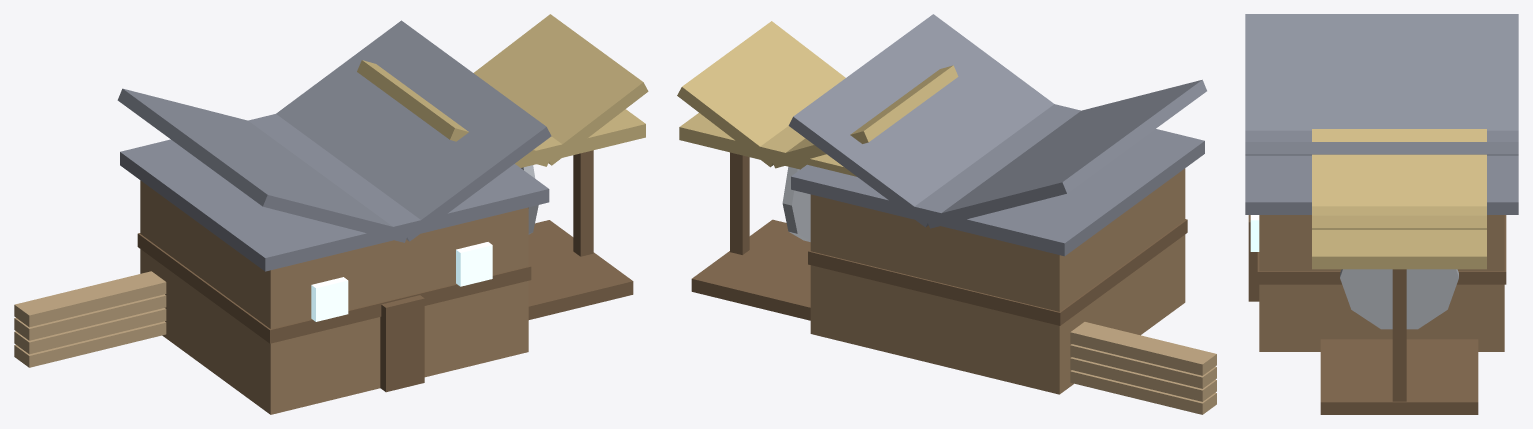
Rendered from sawmill.glb.
The picture shows the model from 3 angles, left to right: view 1: azimuth 30°, elevation 25°; view 2: azimuth 150°, elevation 25°; view 3: azimuth 270°, elevation 25°; orthographic projection. The views are drawn at different scales.
Parts seen in each view (by area): view 1: SawmillWall; view 2: SawmillWall; view 3: SawmillWall.
Part boxes in pixels (bbox=[...]): SawmillWall: bbox=[14, 14, 648, 414]; SawmillWall: bbox=[677, 14, 1216, 414]; SawmillWall: bbox=[1245, 14, 1518, 414].
Bounding box in the file's own units: 3.37 × 1.35 × 1.56.
